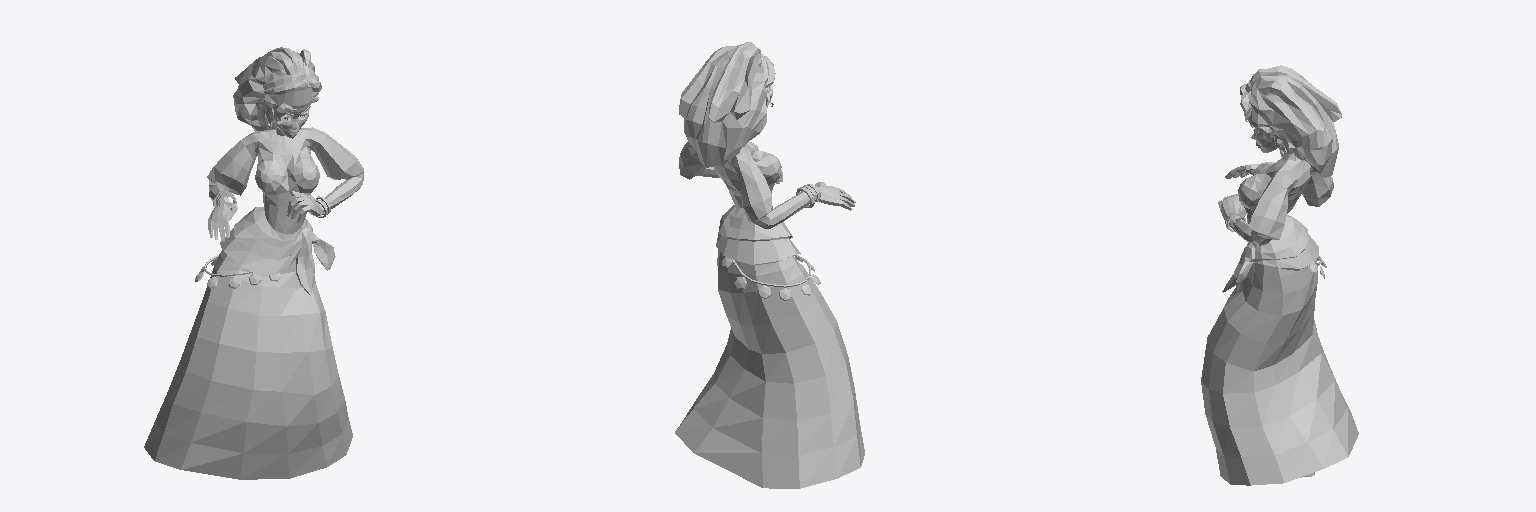
The model's file is pose084.obj.
3 renders of one model, left to right at view 1: azimuth 30°, elevation 25°; view 2: azimuth 150°, elevation 25°; view 3: azimuth 270°, elevation 25°, orthographic.
Visible parts, largest first — view 1: Peasant_girl; view 2: Peasant_girl; view 3: Peasant_girl.
Part boxes in pixels (x1,y1,x2,y2): Peasant_girl: (144,47,363,479); Peasant_girl: (675,42,864,488); Peasant_girl: (1201,65,1358,485).
Bounding box in the file's own units: 98.08 × 195 × 69.21.